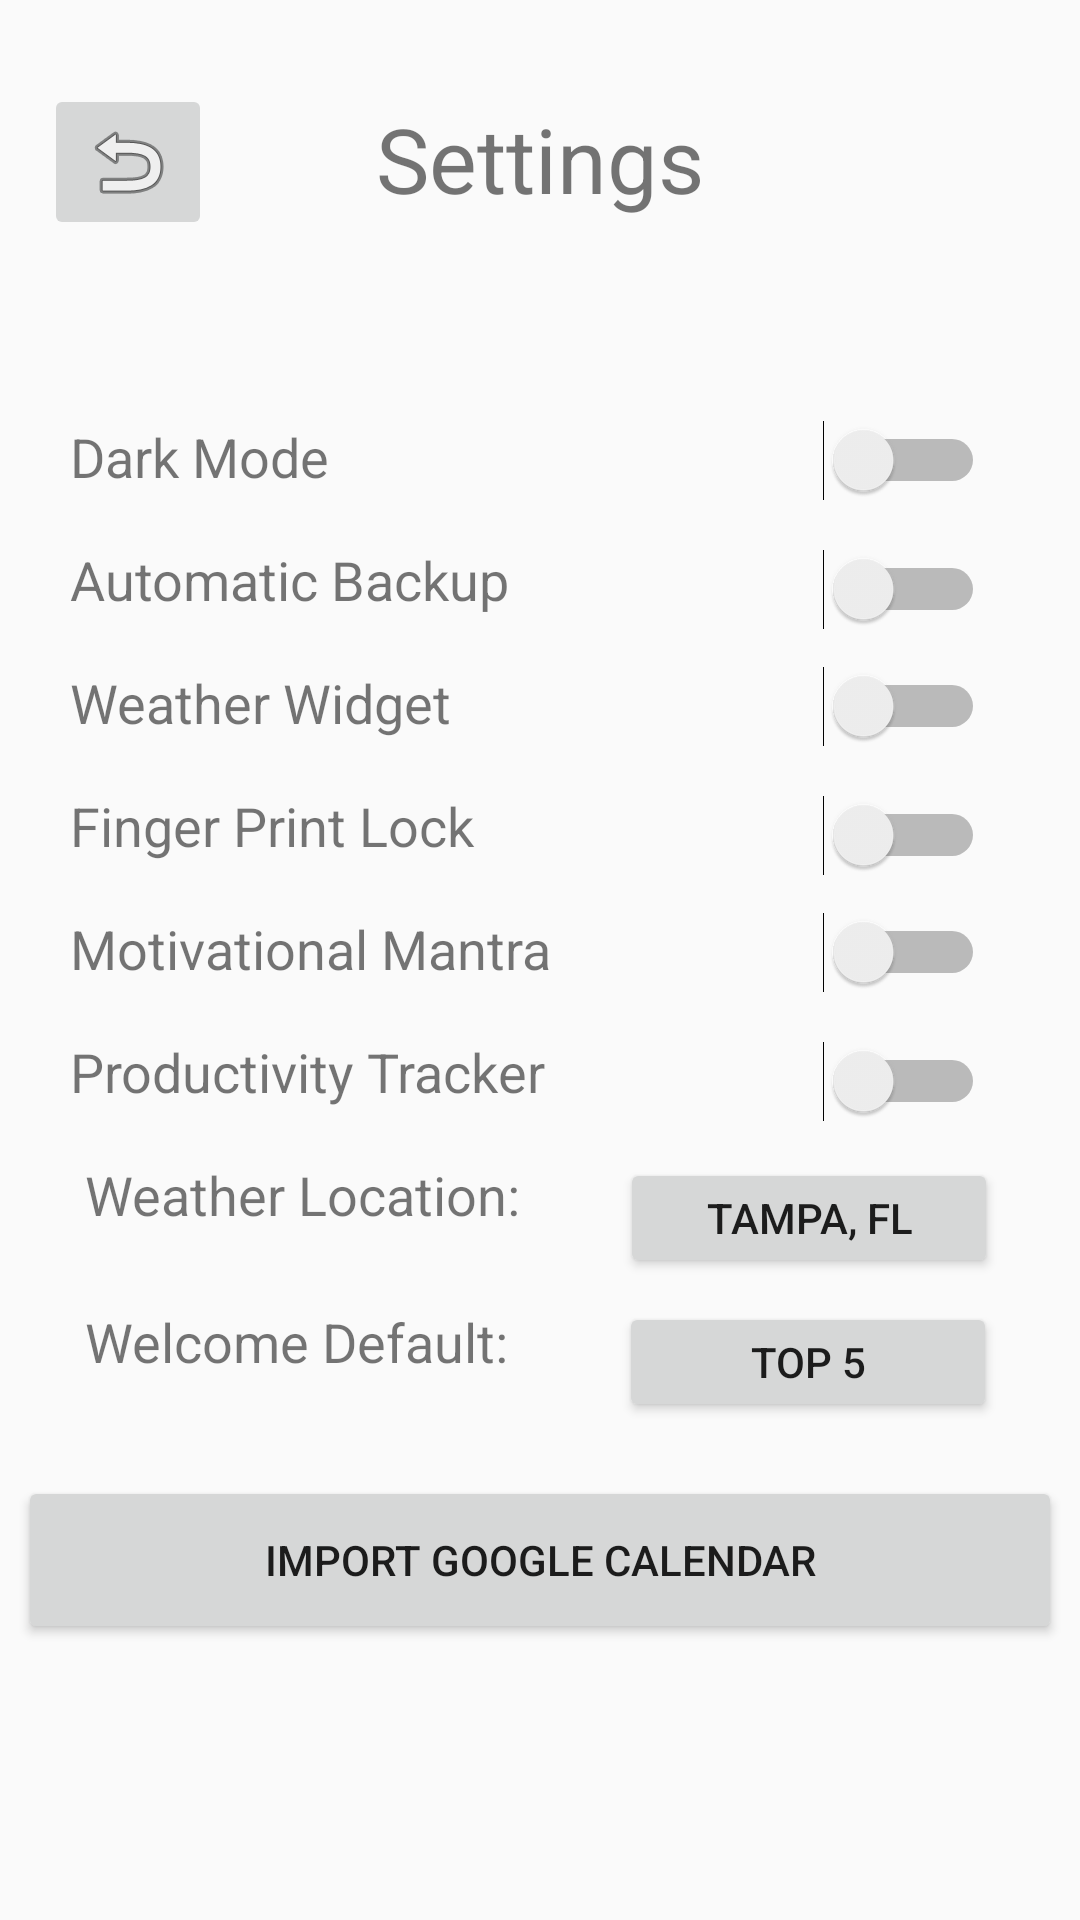

Icon bounding boxes for this 1080*1920 phone screenshot, format [left=x1, top=y1, right=x2, bottom=y2]:
revert: [left=56, top=102, right=200, bottom=222]
